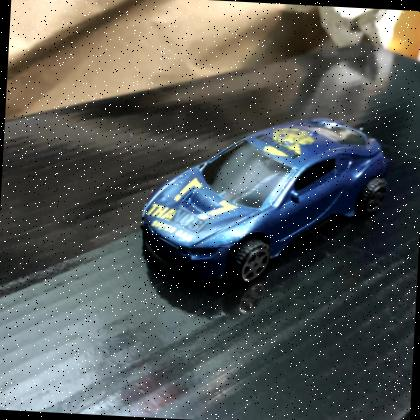Car: (140, 118, 390, 286)
